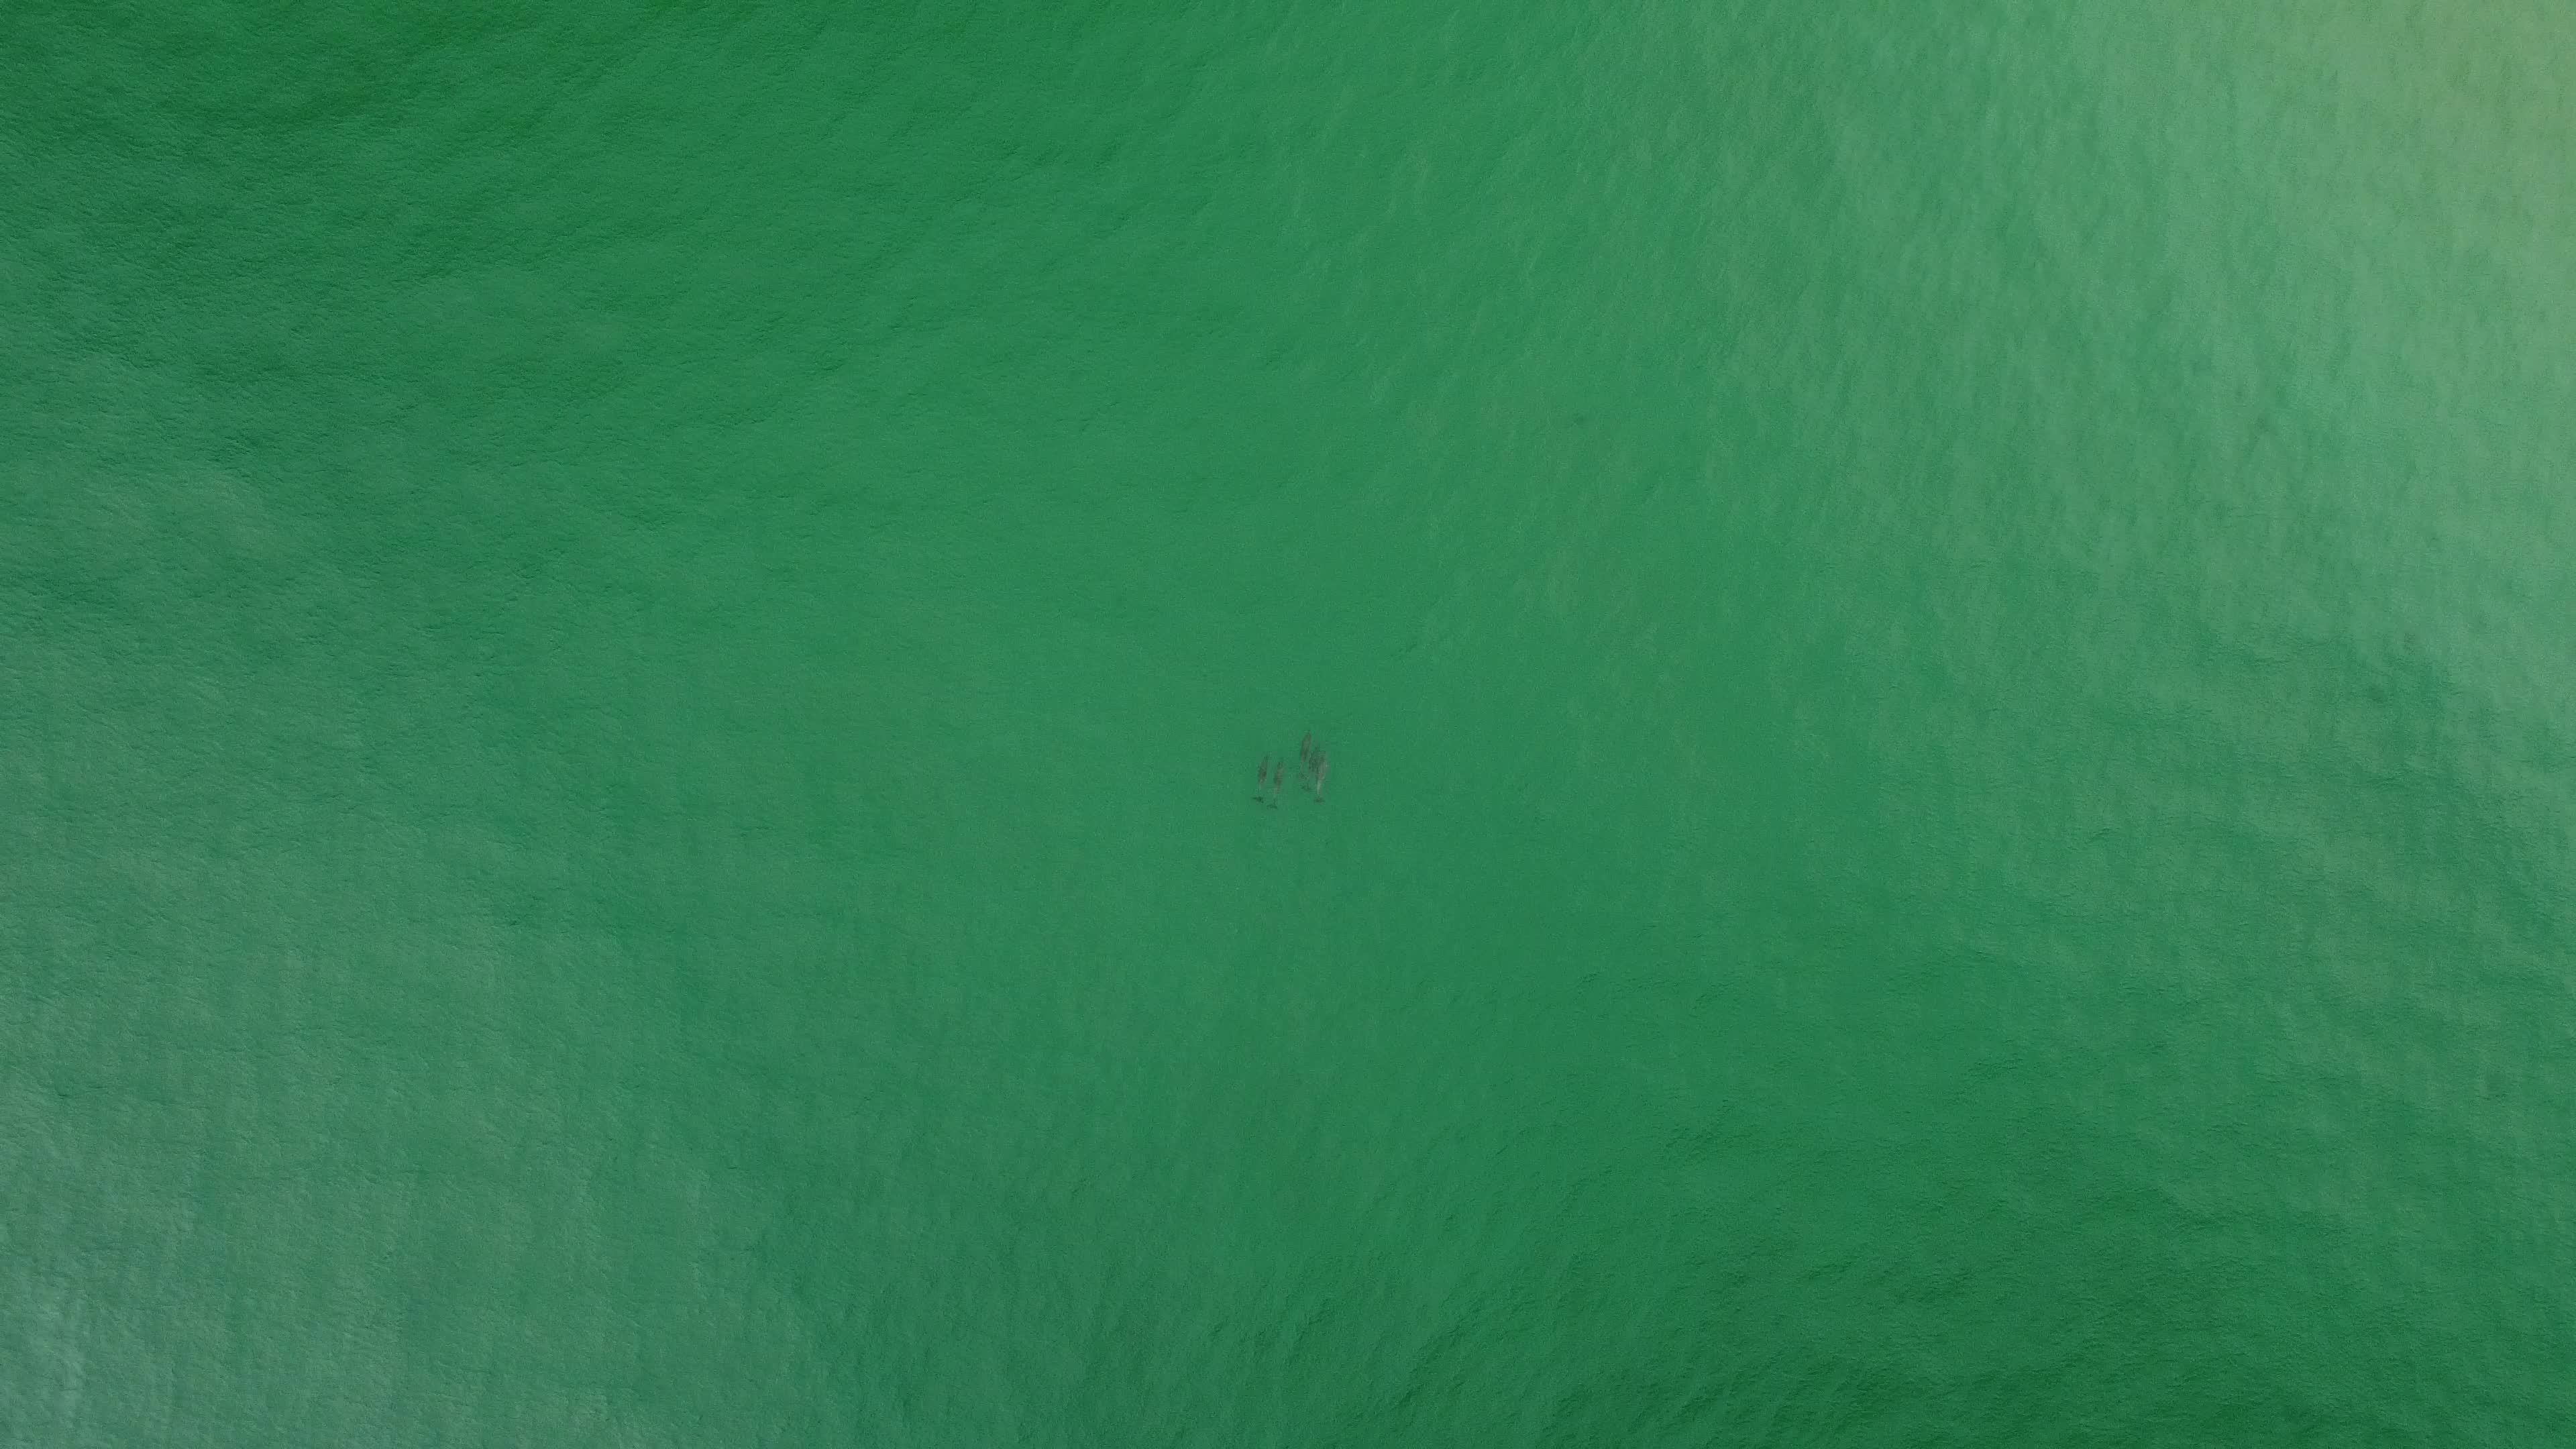dolphin: (1309, 745, 1336, 807), (1265, 748, 1288, 812), (1246, 750, 1270, 803), (1288, 724, 1309, 780), (1307, 734, 1320, 793)
